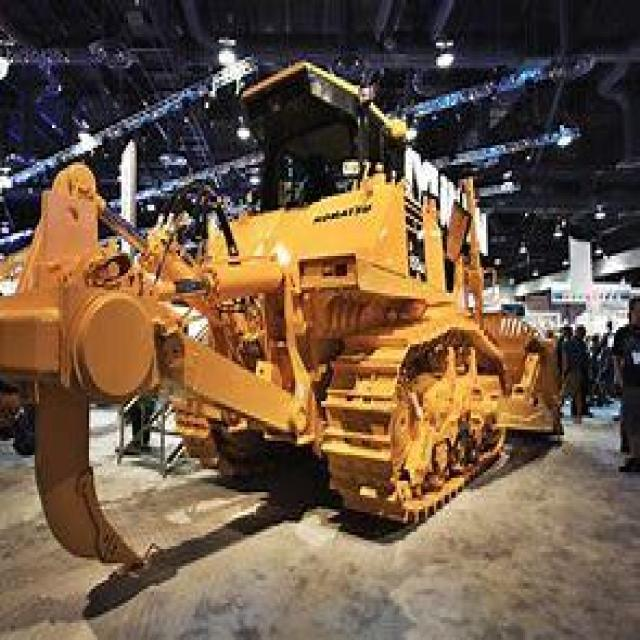buldozerpayloadergrader: (13, 48, 638, 583)
